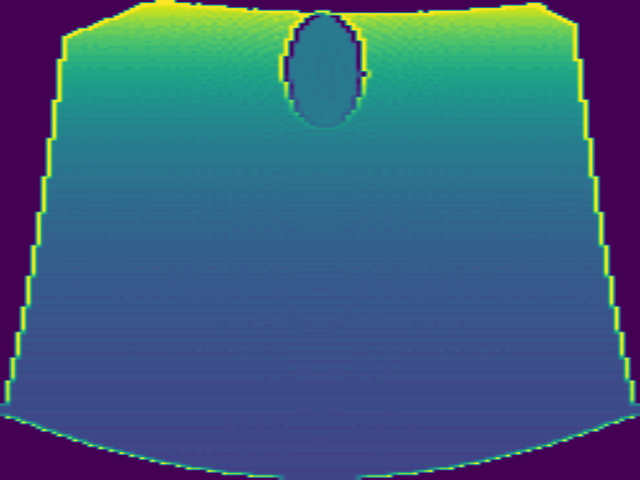sphere: (278, 9, 367, 130)
